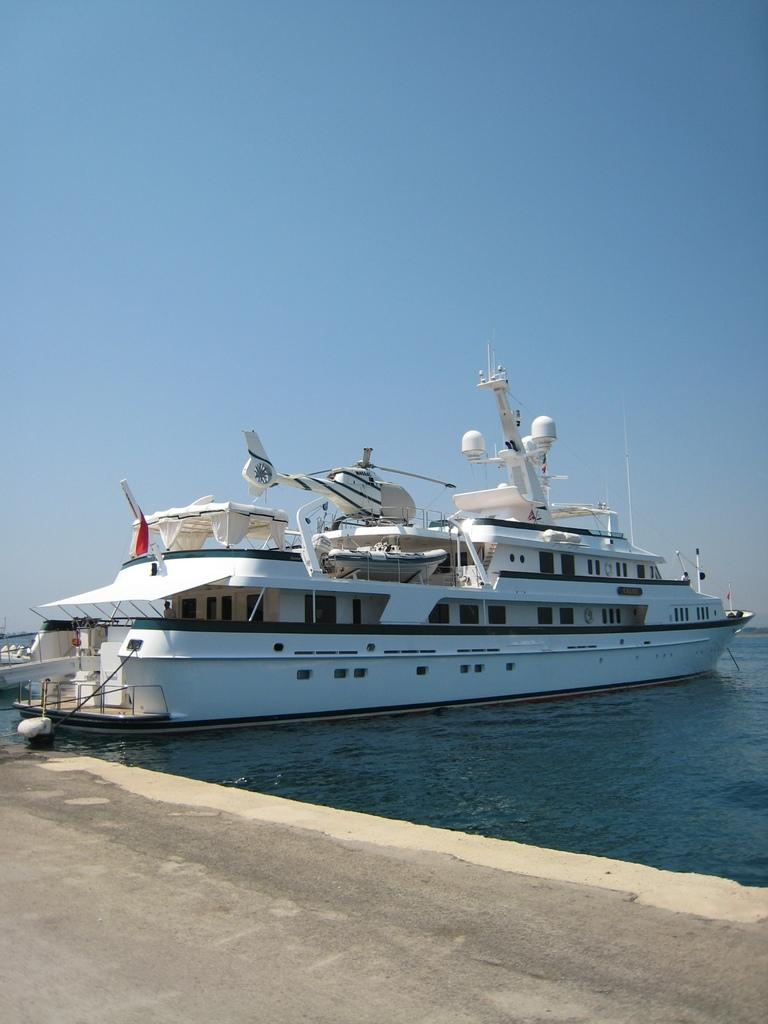PassengerShip: (0, 332, 742, 724)
